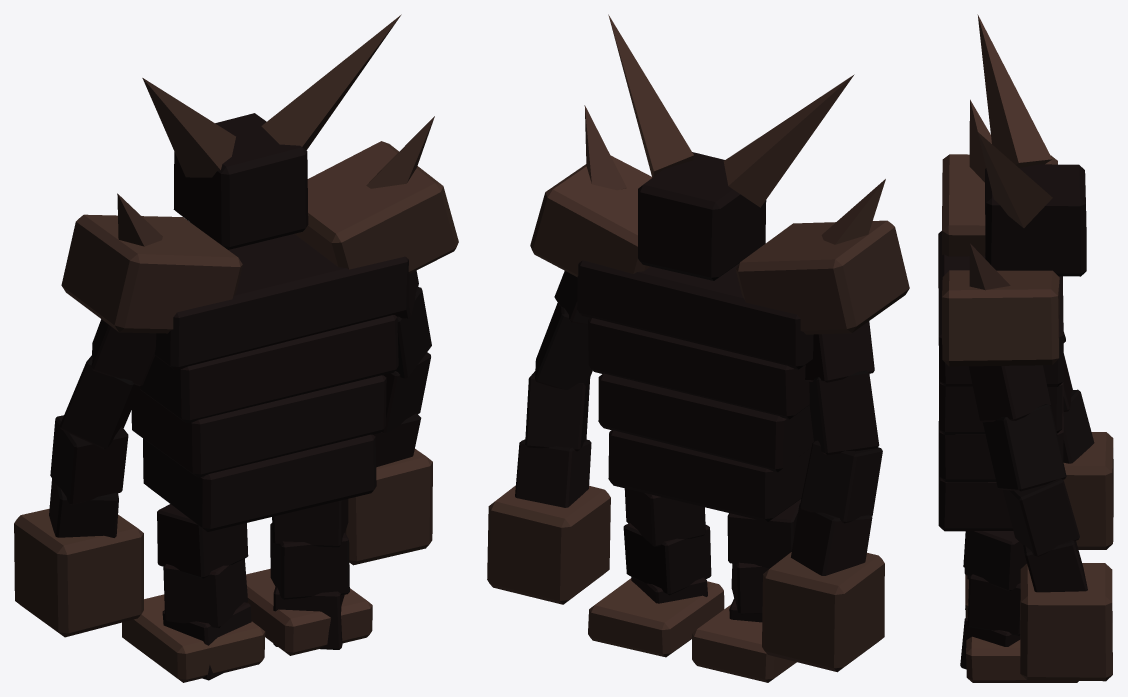
The model's file is inc_cinzas_guardiao.fbx.
3 views of the same model, side by side, from view 1: azimuth 30°, elevation 25°; view 2: azimuth 150°, elevation 25°; view 3: azimuth 270°, elevation 25° (orthographic). The views are drawn at different scales.
Visible parts, largest first — view 1: inc_cinzas_guardiao; view 2: inc_cinzas_guardiao; view 3: inc_cinzas_guardiao.
Boxes of the visible parts, box(x1,y1,x2,y2) form: inc_cinzas_guardiao: box(14, 14, 458, 682); inc_cinzas_guardiao: box(487, 14, 909, 682); inc_cinzas_guardiao: box(938, 14, 1113, 682).
Size of the model in its own units: 10.44 by 16.33 by 4.53.
